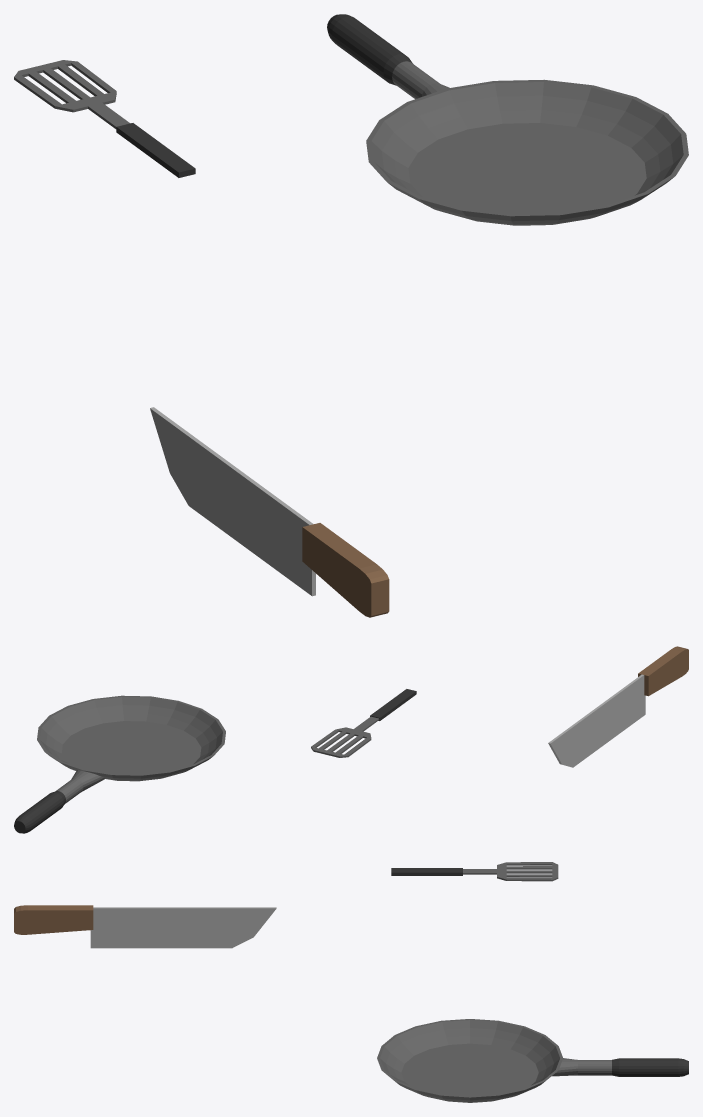
File: Items 2.fbx
The picture shows the model from 3 angles, top to bottom: view 1: azimuth 30°, elevation 25°; view 2: azimuth 150°, elevation 25°; view 3: azimuth 270°, elevation 25°; orthographic projection. The views are drawn at different scales.
Parts seen in each view (by area): view 1: Cylinder, Cube.009, Cube.002; view 2: Cylinder, Cube.009, Cube.002; view 3: Cylinder, Cube.009, Cube.002.
Boxes of the visible parts, <box> form: Cylinder: <box>327,14,688,225</box>; Cube.009: <box>150,407,389,617</box>; Cube.002: <box>14,60,195,177</box>; Cylinder: <box>14,695,225,833</box>; Cube.009: <box>548,646,688,767</box>; Cube.002: <box>311,689,416,757</box>; Cylinder: <box>377,1019,688,1102</box>; Cube.009: <box>14,905,276,948</box>; Cube.002: <box>391,862,558,881</box>.
Size of the model in its own units: 494 by 136 by 725.
